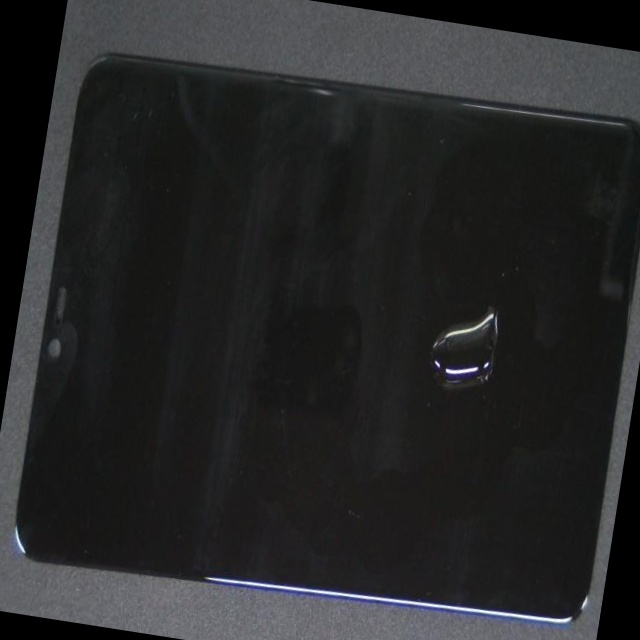oil: (202, 181, 640, 581)
